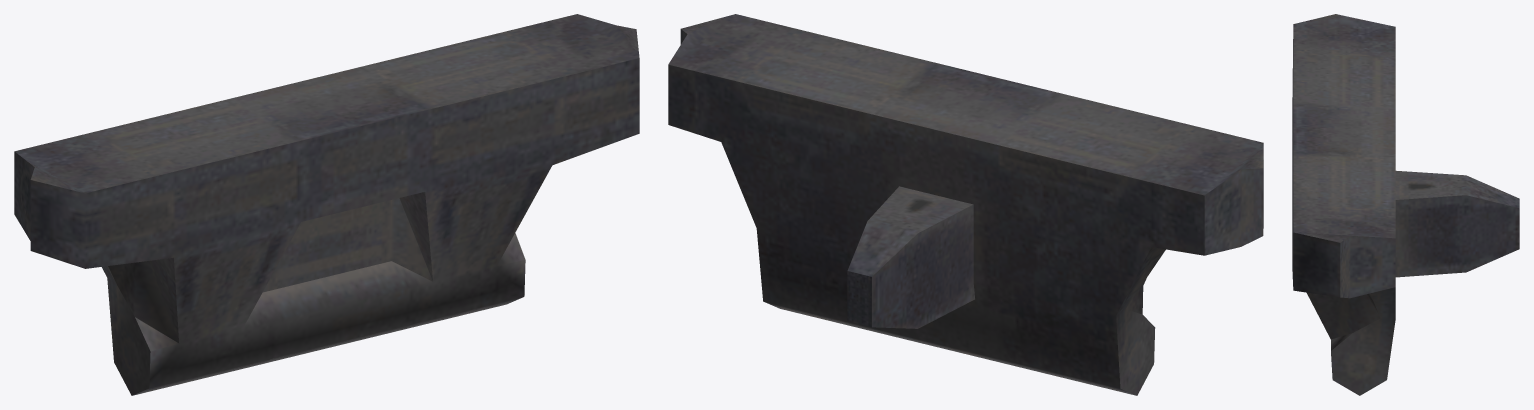
The picture shows the model from 3 angles, left to right: view 1: azimuth 30°, elevation 25°; view 2: azimuth 150°, elevation 25°; view 3: azimuth 270°, elevation 25°; orthographic projection. The views are drawn at different scales.
Visible parts, largest first — view 1: set_0_group_0; view 2: set_0_group_0; view 3: set_0_group_0.
Boxes of the visible parts, <box> form: set_0_group_0: <box>14,14,639,395</box>; set_0_group_0: <box>668,14,1263,395</box>; set_0_group_0: <box>1292,14,1519,395</box>.
Size of the model in its own units: 0.3552 by 0.1441 by 0.1493.
Materials: 1 (1 with a texture image).
